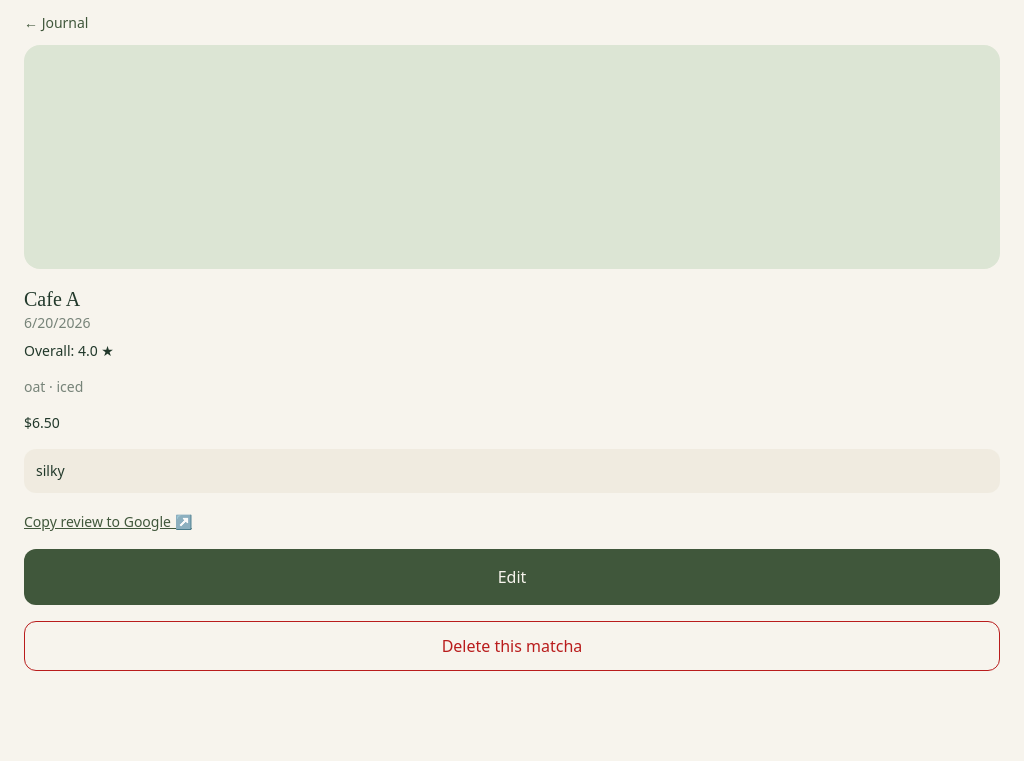
ReviewDetail › switches to a pre-filled form when Edit is tapped
What coordinates should you click on to do the following:
click the button "Edit"
I would click on:
 (512, 577)
Its box is [24,549,1000,605].
(page scrolled)
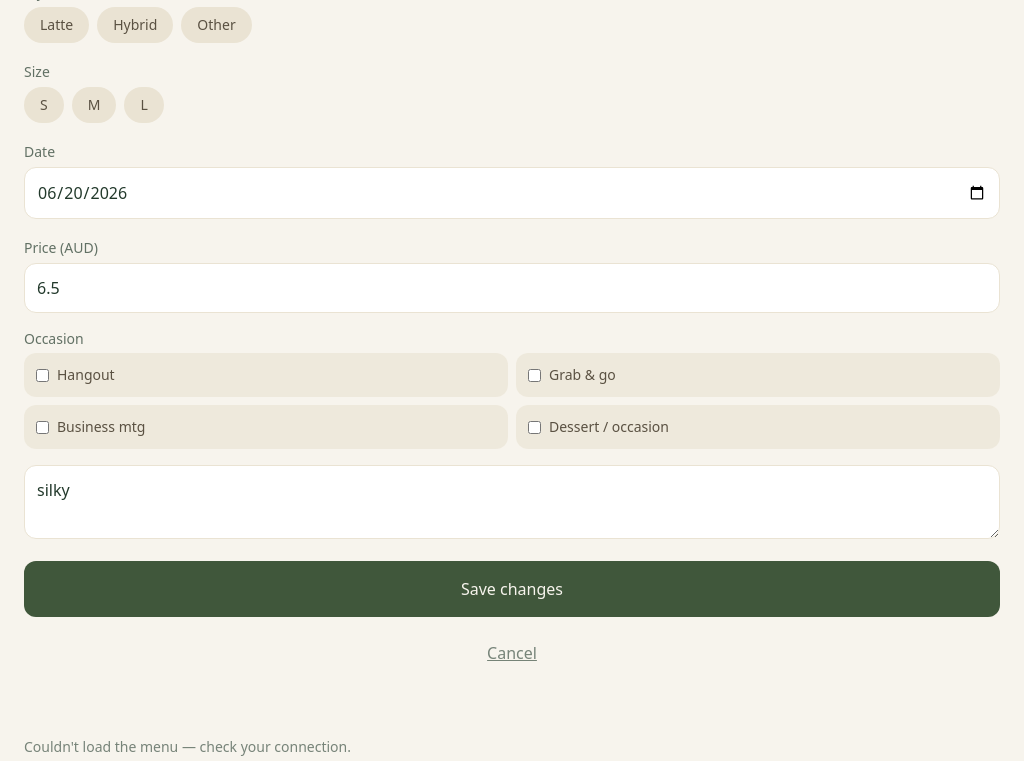
Result: the field labelled "Price" holds "6.5" at [24,263,1000,313]
Result: the button "Save changes" is shown at [24,561,1000,617]
